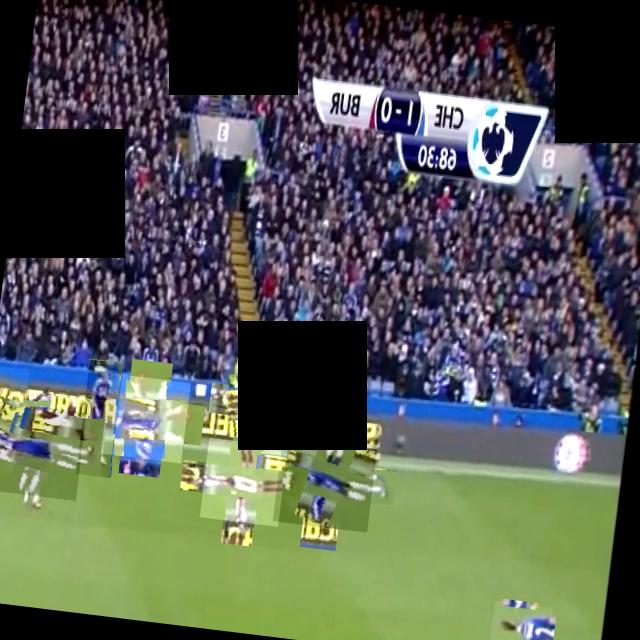referee: (218, 365, 294, 442)
soccer-player: (272, 427, 378, 532), (0, 401, 86, 500), (100, 373, 190, 463), (199, 438, 287, 526), (75, 358, 124, 478), (28, 392, 93, 458), (487, 600, 553, 640), (0, 365, 29, 433)
